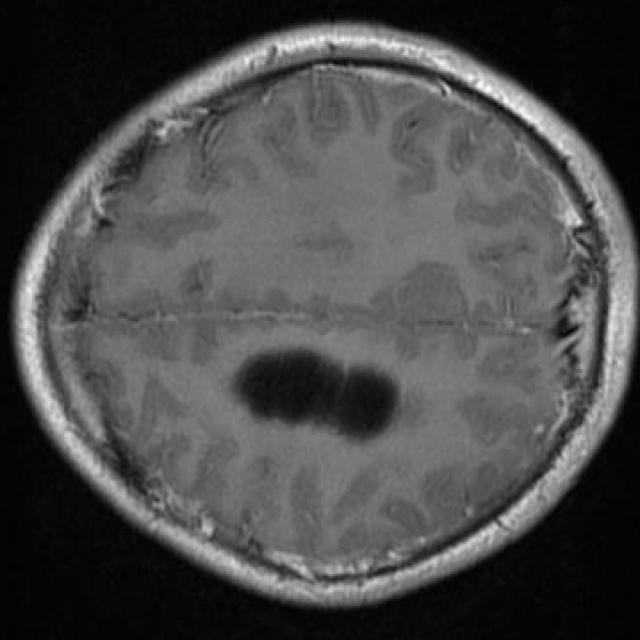glioma: (234, 351, 401, 440)
